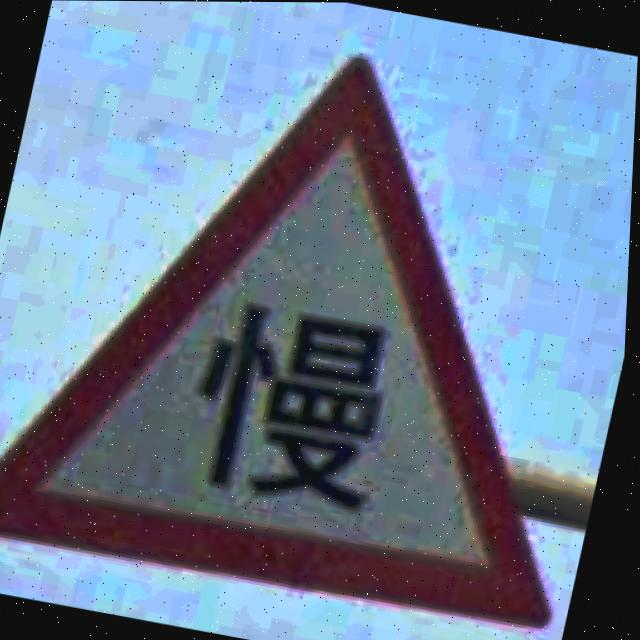slow: (0, 59, 551, 625)
